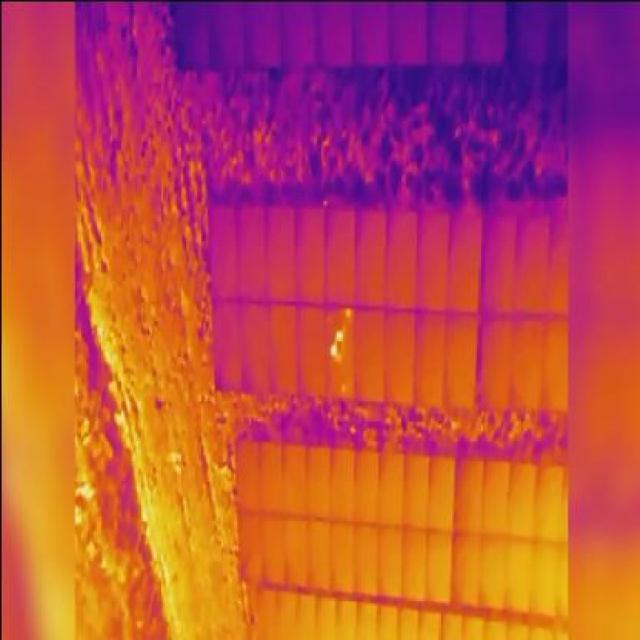hotspot: (326, 341, 336, 356), (334, 324, 344, 338), (344, 305, 350, 318)
